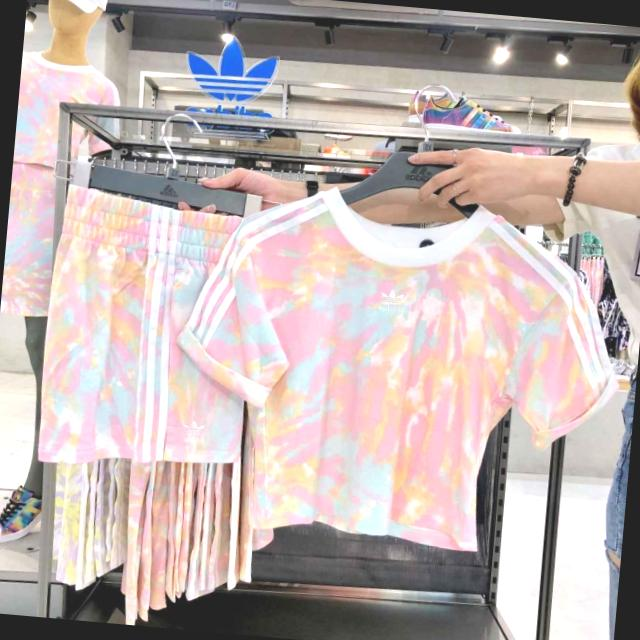Tshirt: (190, 177, 622, 556)
